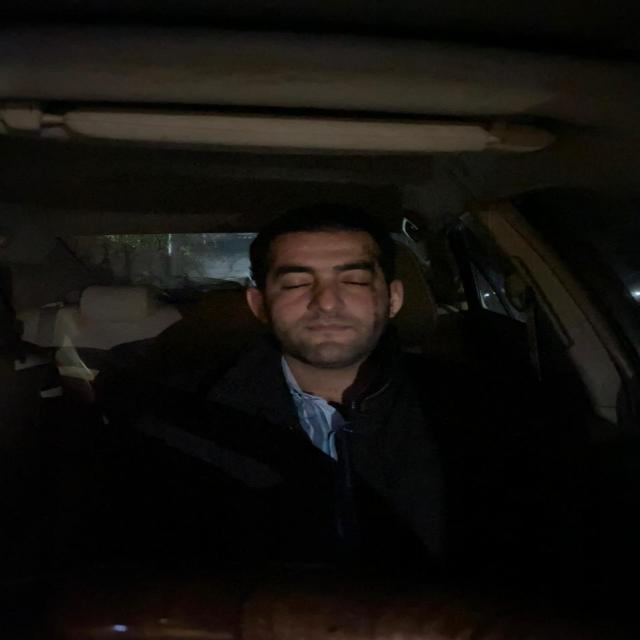drowsy: (232, 203, 415, 371)
